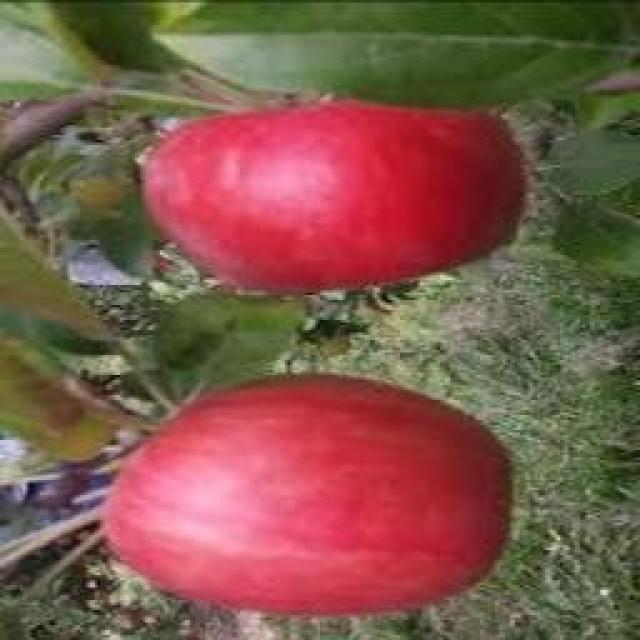Apple: (104, 375, 511, 615), (144, 101, 524, 293)
